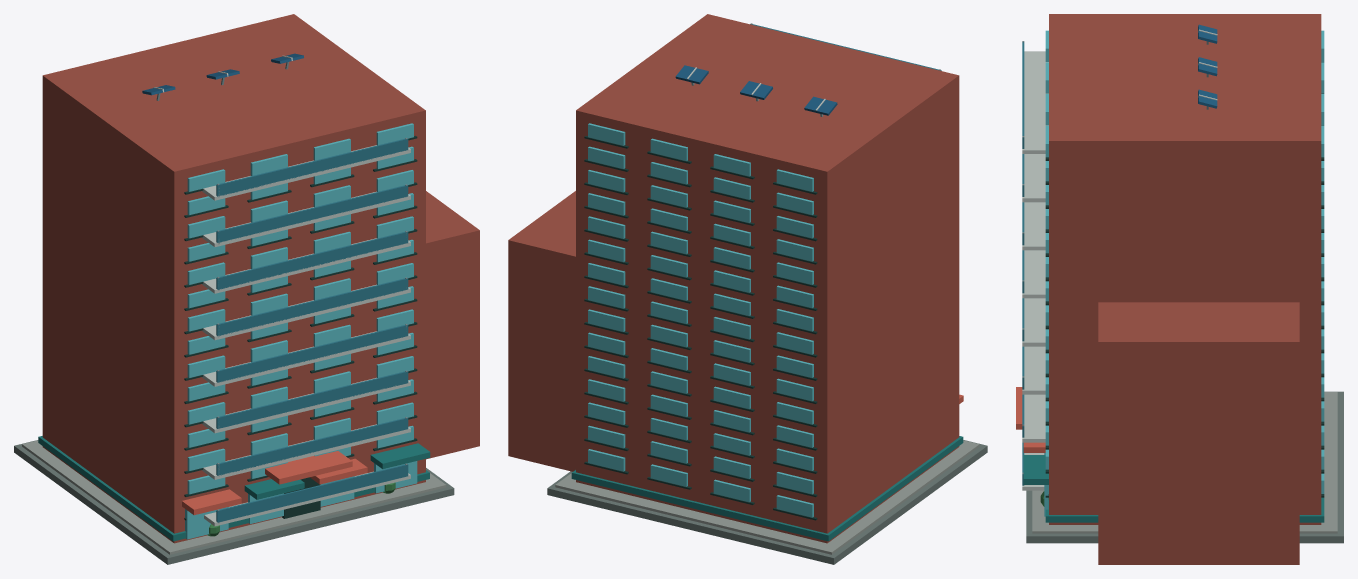
Rendered from mixed_use_lv4.glb.
3 views of the same model, side by side, from view 1: azimuth 30°, elevation 25°; view 2: azimuth 150°, elevation 25°; view 3: azimuth 270°, elevation 25° (orthographic). The views are drawn at different scales.
Parts seen in each view (by area): view 1: rough, glossy, metallic; view 2: rough, glossy, metallic; view 3: rough, glossy, metallic.
Boxes of the visible parts, box(x1,y1,x2,y2) form: rough: box(14, 14, 479, 564); glossy: box(185, 123, 417, 539); metallic: box(142, 53, 407, 523); rough: box(508, 14, 987, 564); glossy: box(588, 24, 941, 517); metallic: box(675, 23, 940, 116); rough: box(1016, 14, 1343, 564); glossy: box(1022, 30, 1324, 516); metallic: box(1022, 24, 1217, 473).
Size of the model in its own units: 11.87 by 12.92 by 9.39.
